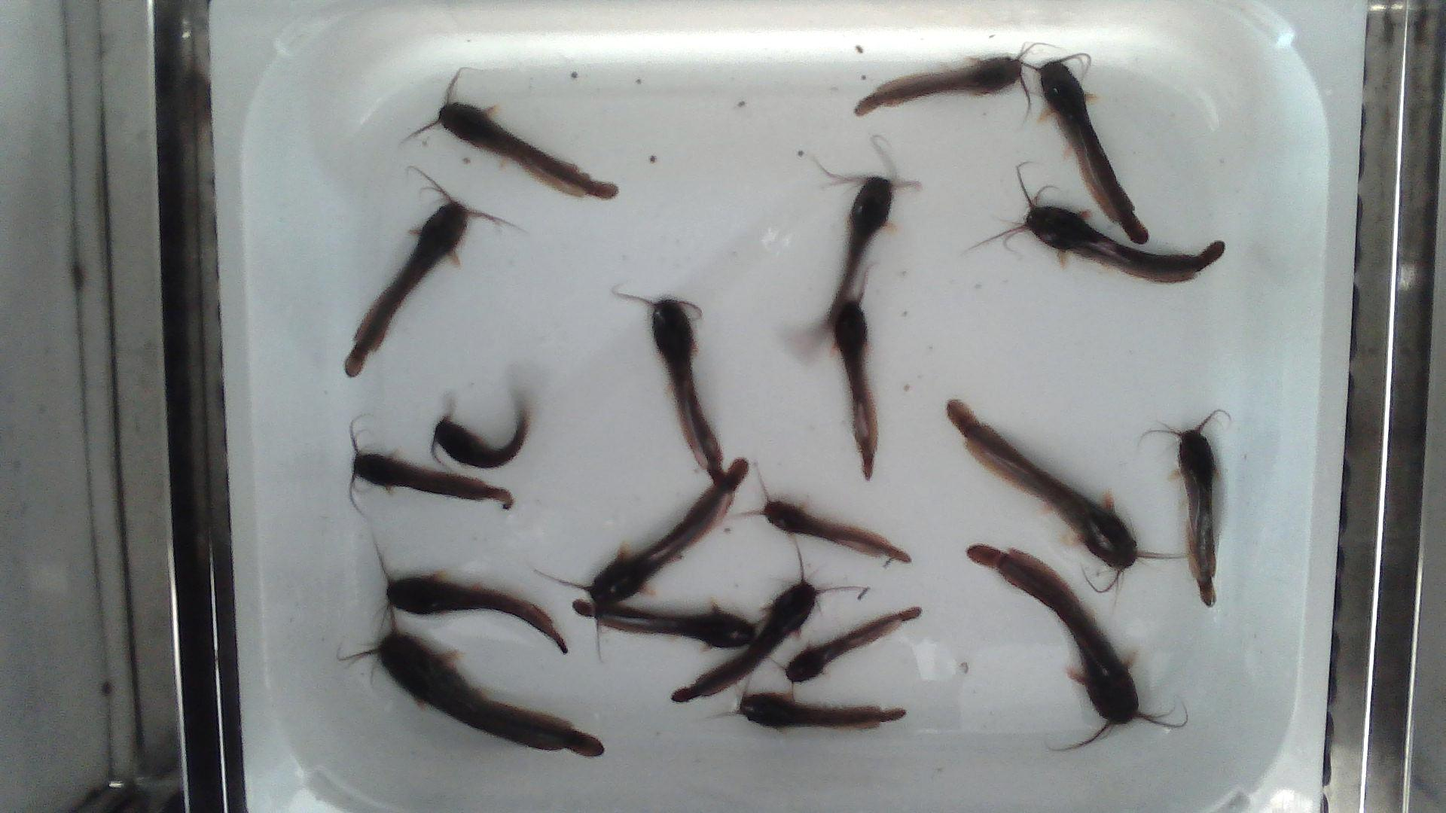lele: (947, 400, 1138, 571), (968, 544, 1138, 723), (377, 631, 603, 756), (587, 459, 746, 616), (346, 197, 470, 376), (1039, 61, 1147, 242), (438, 98, 617, 199), (673, 580, 819, 702), (815, 175, 909, 333), (1026, 206, 1224, 281), (387, 575, 566, 651), (651, 299, 723, 481), (833, 283, 884, 482), (786, 607, 920, 682), (574, 599, 756, 652), (856, 57, 1021, 115), (762, 500, 911, 562), (353, 450, 513, 507), (1178, 419, 1216, 605), (740, 693, 905, 728), (435, 410, 528, 467)
